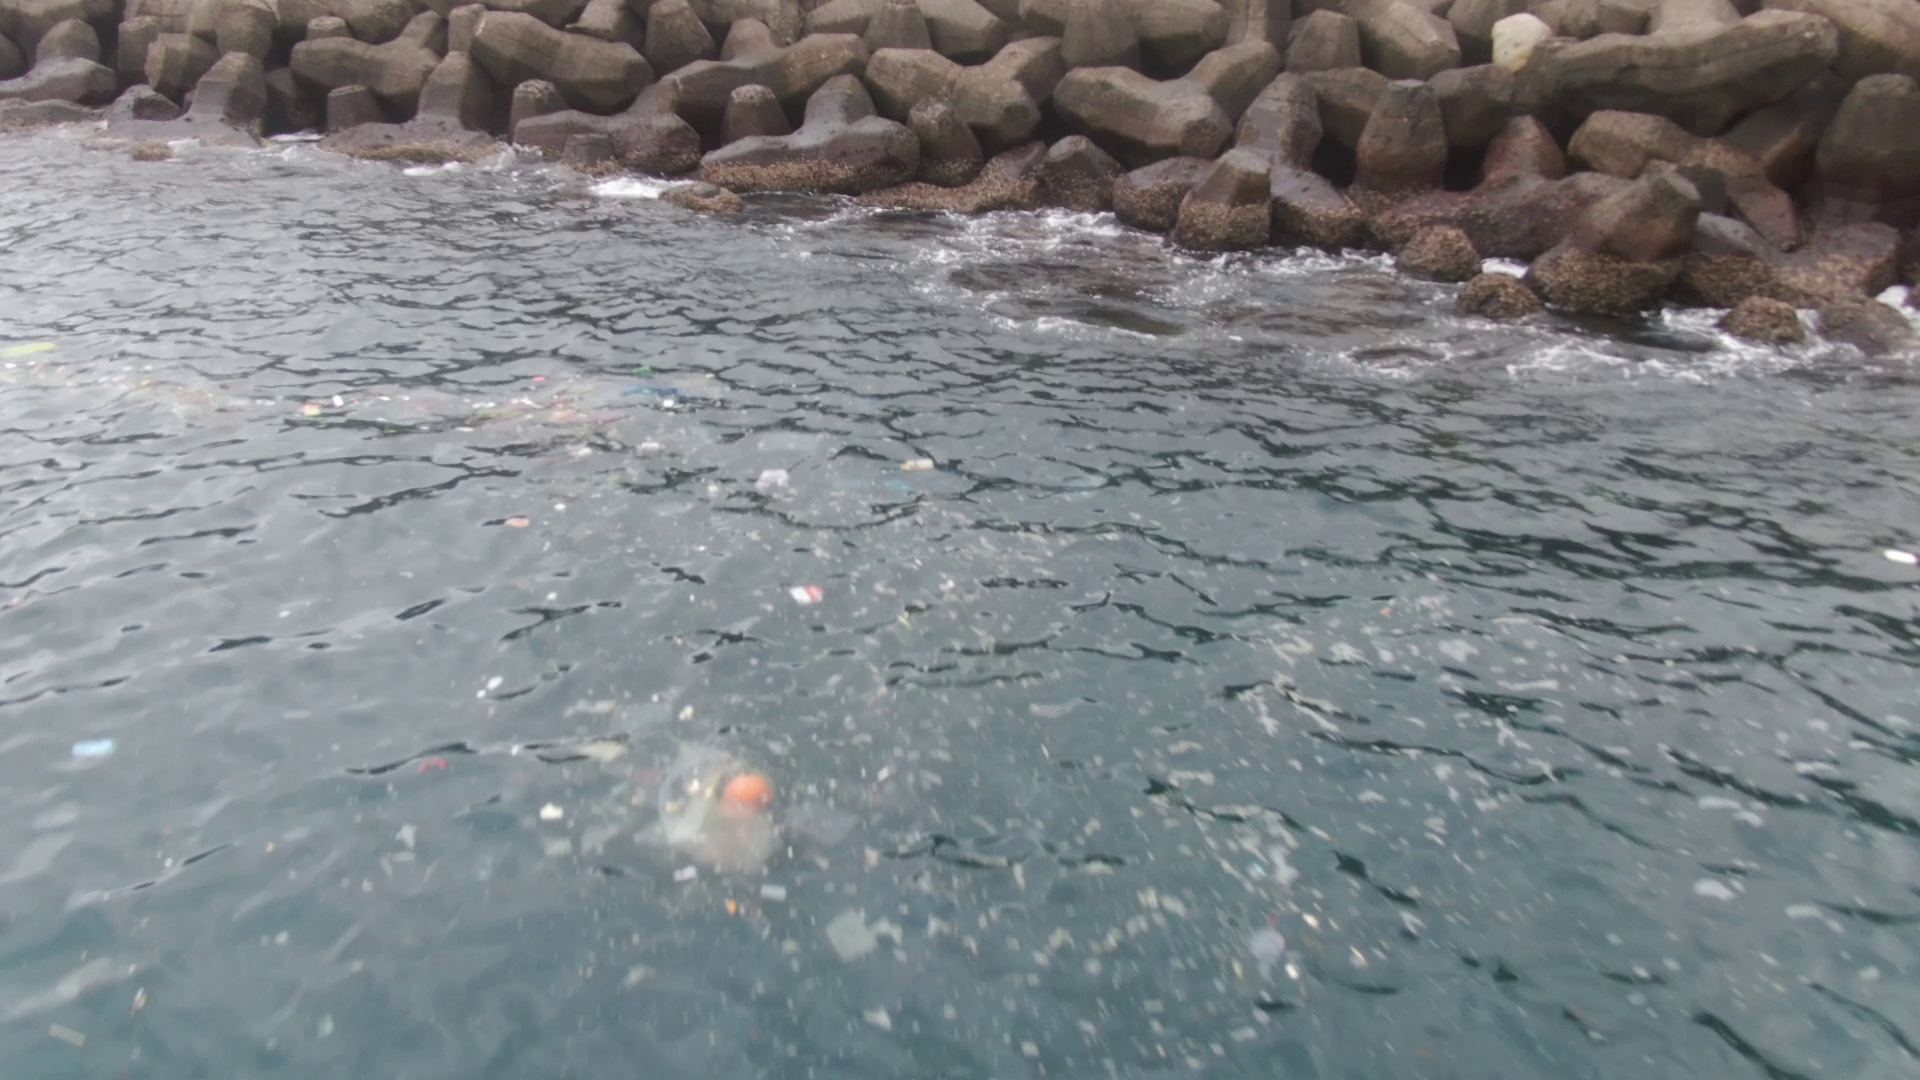garbage: (553, 468, 1054, 905), (703, 754, 785, 835), (550, 392, 651, 456), (415, 392, 546, 426), (138, 371, 191, 411), (196, 381, 237, 417), (307, 396, 367, 419), (88, 367, 135, 394), (243, 396, 287, 413)
